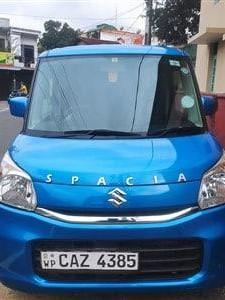license-plate: (40, 250, 137, 269)
